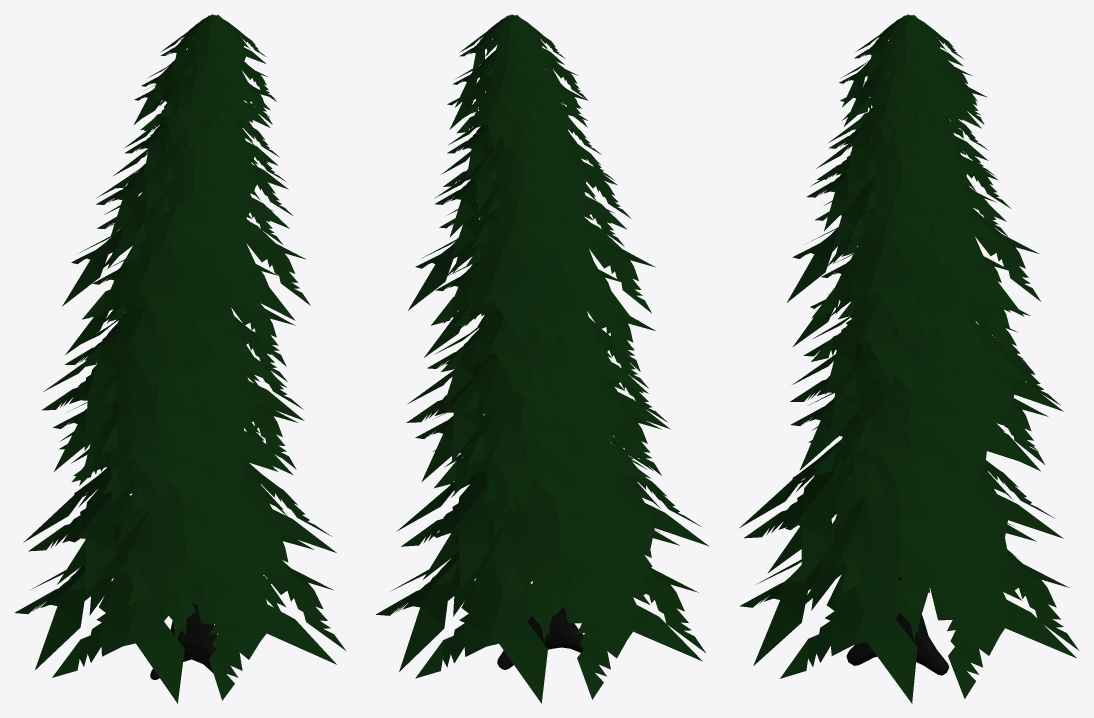
The model's file is tree_01.obj.
The picture shows the model from 3 angles, left to right: view 1: azimuth 30°, elevation 25°; view 2: azimuth 150°, elevation 25°; view 3: azimuth 270°, elevation 25°; orthographic projection. The views are drawn at different scales.
Parts seen in each view (by area): view 1: Cube.003, Cube.004; view 2: Cube.003, Cube.004; view 3: Cube.003, Cube.004.
Part boxes in pixels (x1,y1,x2,y2): Cube.003: (14, 14, 345, 703); Cube.004: (150, 597, 216, 679); Cube.003: (376, 14, 709, 703); Cube.004: (497, 16, 583, 669); Cube.003: (739, 14, 1079, 703); Cube.004: (846, 577, 949, 675).
Bounding box in the file's own units: 2.05 × 4.08 × 1.91.
